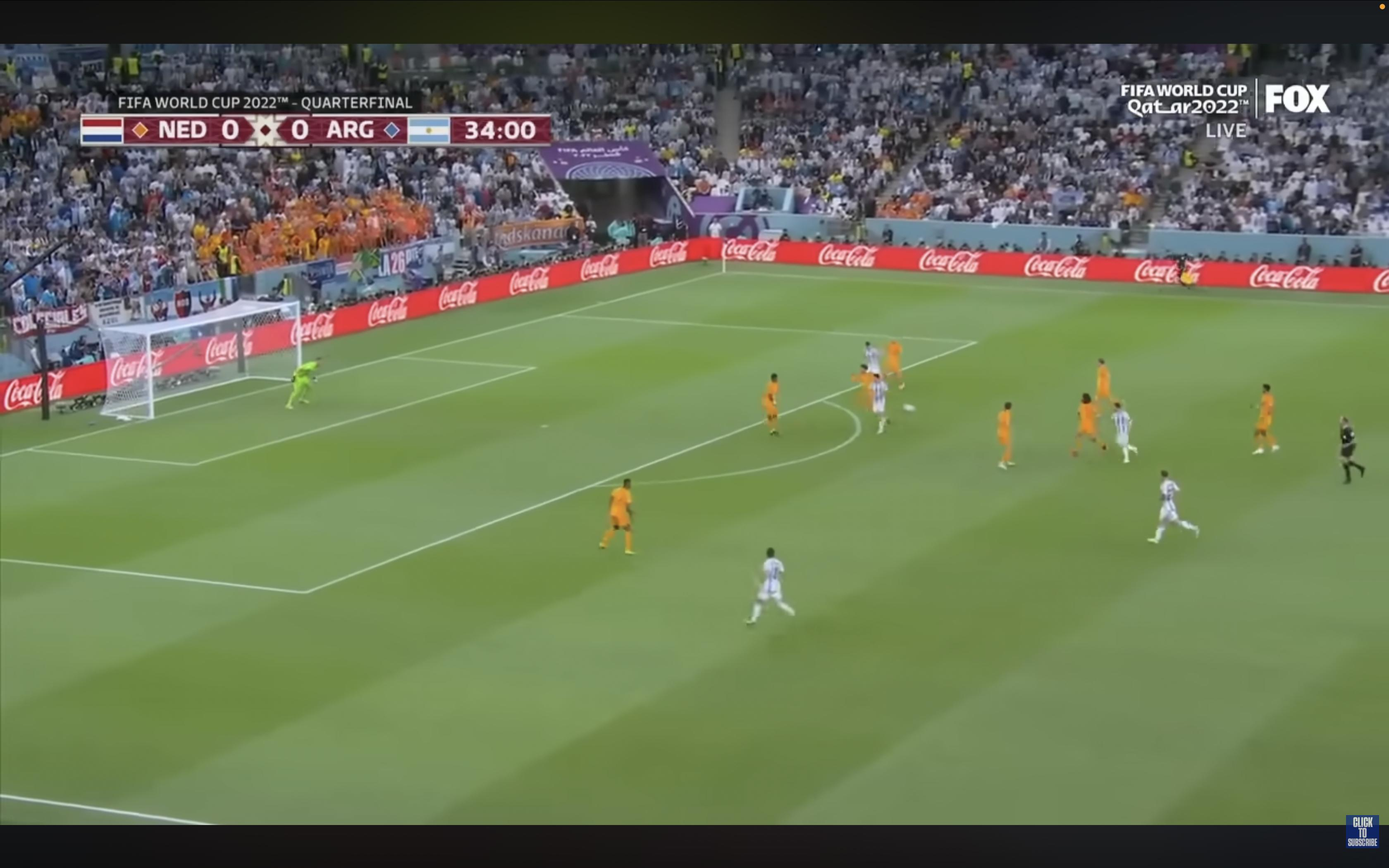ball: (903, 404, 916, 412)
goalkeeper: (286, 359, 320, 409)
player: (1148, 470, 1199, 544), (746, 548, 795, 625), (600, 479, 634, 555), (1071, 393, 1107, 457), (1253, 384, 1279, 455), (1112, 401, 1138, 463), (871, 373, 890, 434), (997, 402, 1014, 470), (762, 374, 779, 435), (851, 364, 873, 410), (1095, 358, 1115, 408), (886, 339, 904, 389), (864, 342, 882, 375)
referee: (1339, 416, 1366, 484), (1176, 255, 1195, 288)
